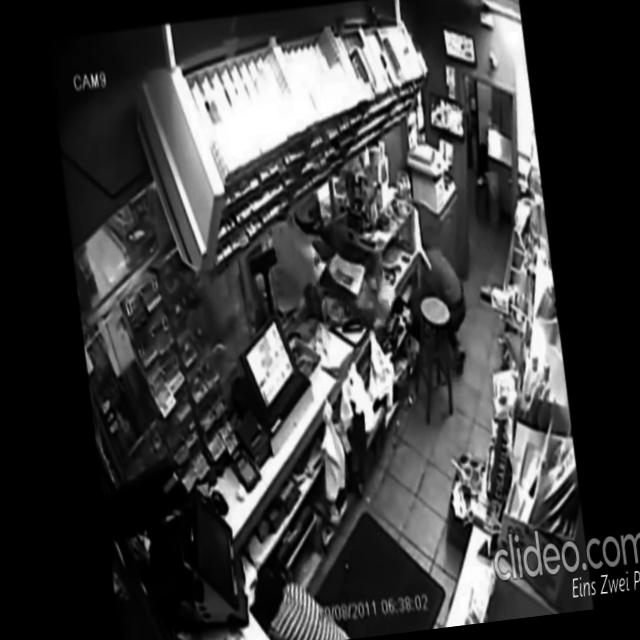gun: (352, 292, 384, 333)
person: (412, 232, 478, 382), (248, 557, 353, 640)
person with a gun: (256, 182, 385, 349)
